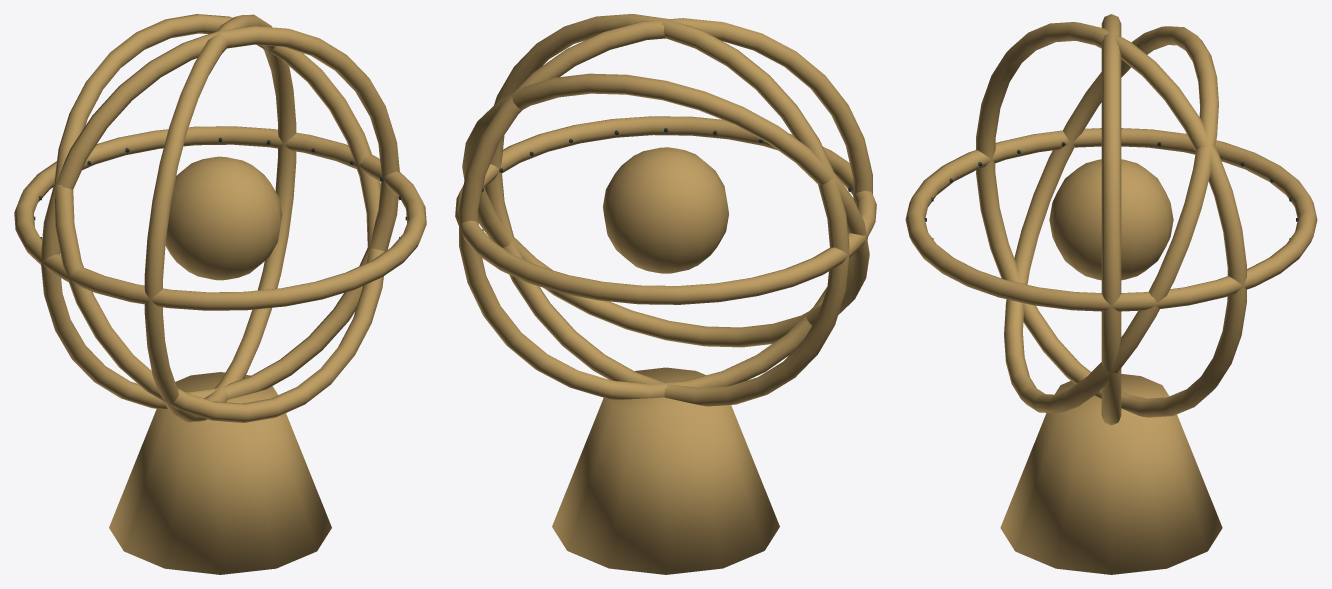
The model's file is armillary.glb.
3 views of the same model, side by side, from view 1: azimuth 30°, elevation 25°; view 2: azimuth 150°, elevation 25°; view 3: azimuth 270°, elevation 25° (orthographic). The views are drawn at different scales.
Visible parts, largest first — view 1: armillary_brass; view 2: armillary_brass; view 3: armillary_brass.
Boxes of the visible parts, left/top/right/bottom form: armillary_brass: left=14, top=14, right=426, bottom=574; armillary_brass: left=455, top=14, right=876, bottom=574; armillary_brass: left=905, top=14, right=1317, bottom=574.
Size of the model in its own units: 0.63 by 0.835 by 0.63.
